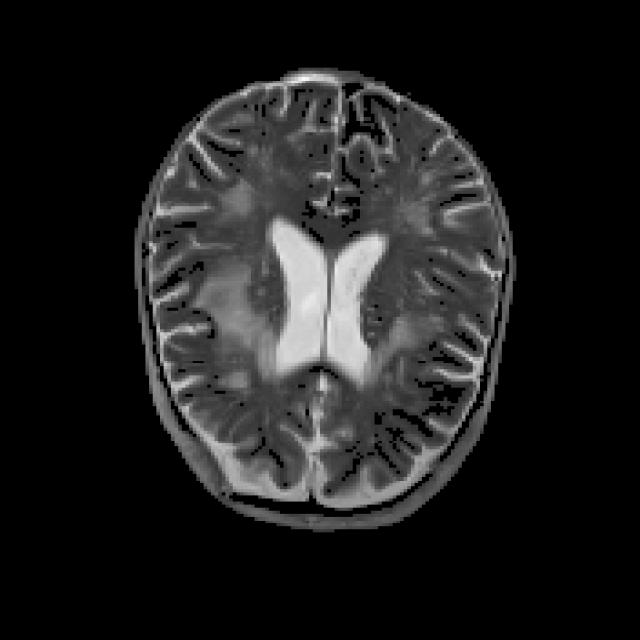CONTROL: (131, 65, 516, 529)
